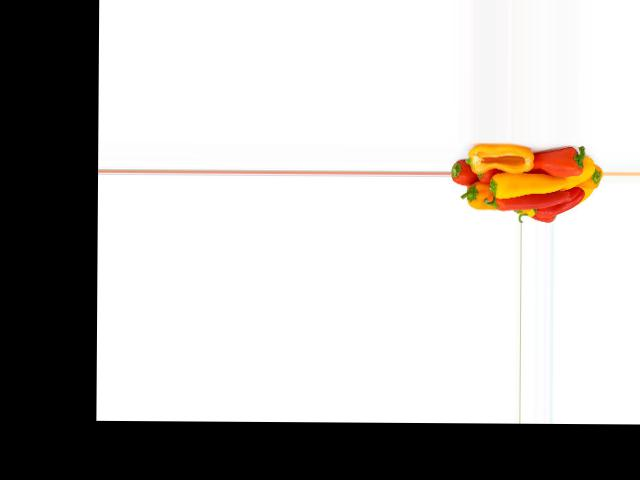bell_pepper: (450, 160, 493, 190)
